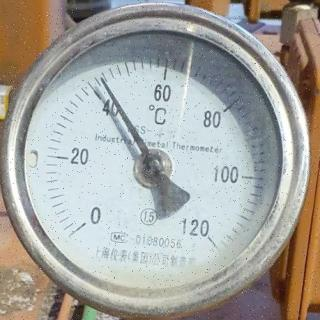gauge: (0, 1, 316, 319), (132, 149, 168, 187), (65, 208, 101, 240), (194, 222, 226, 253), (95, 72, 109, 88)
